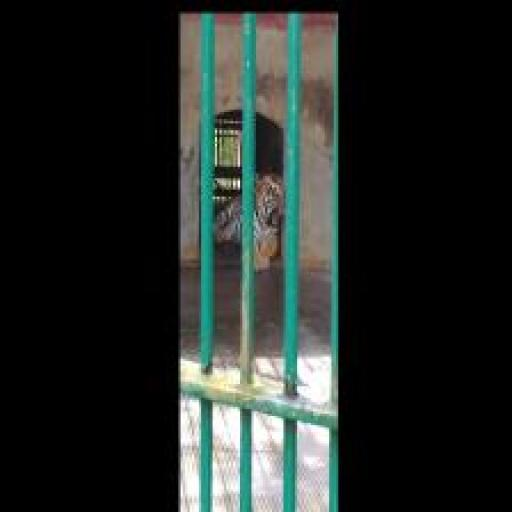Tiger: (215, 160, 287, 272)
